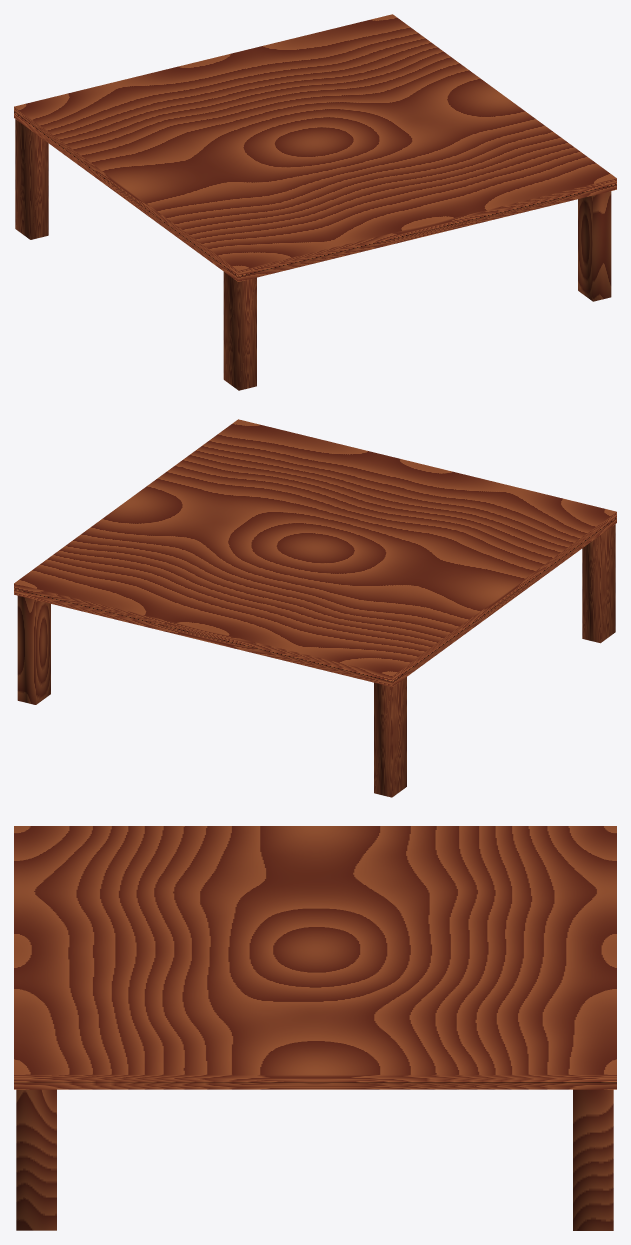
File: table.fbx
The picture shows the model from 3 angles, top to bottom: view 1: azimuth 30°, elevation 25°; view 2: azimuth 150°, elevation 25°; view 3: azimuth 270°, elevation 25°; orthographic projection. The views are drawn at different scales.
Visible parts, largest first — view 1: Cube, Cube_003, Cube_002, Cube_004; view 2: Cube, Cube_002, Cube_003, Cube_001; view 3: Cube, Cube_004, Cube_001.
Boxes of the visible parts, bbox=[...] form: Cube: bbox=[14, 14, 616, 281]; Cube_003: bbox=[223, 272, 256, 390]; Cube_002: bbox=[15, 119, 48, 239]; Cube_004: bbox=[578, 191, 611, 301]; Cube: bbox=[14, 419, 616, 686]; Cube_002: bbox=[374, 677, 406, 797]; Cube_003: bbox=[582, 524, 615, 643]; Cube_001: bbox=[17, 596, 50, 704]; Cube: bbox=[14, 826, 616, 1089]; Cube_004: bbox=[16, 1089, 56, 1230]; Cube_001: bbox=[573, 1089, 613, 1230].
Size of the model in its own units: 7.59 by 2.34 by 7.78.
2 materials, 2 textured.
